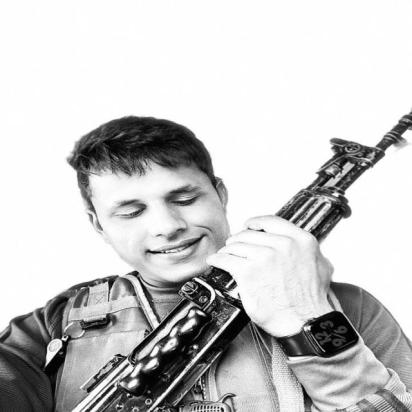Gun: (70, 110, 412, 412)
